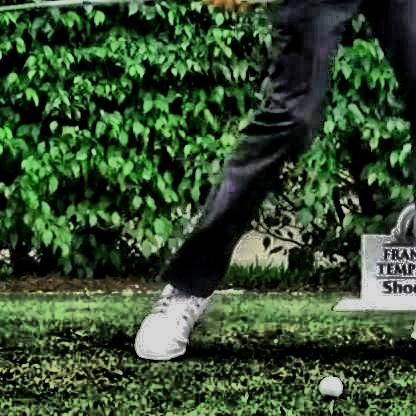golfball: (314, 372, 339, 396)
